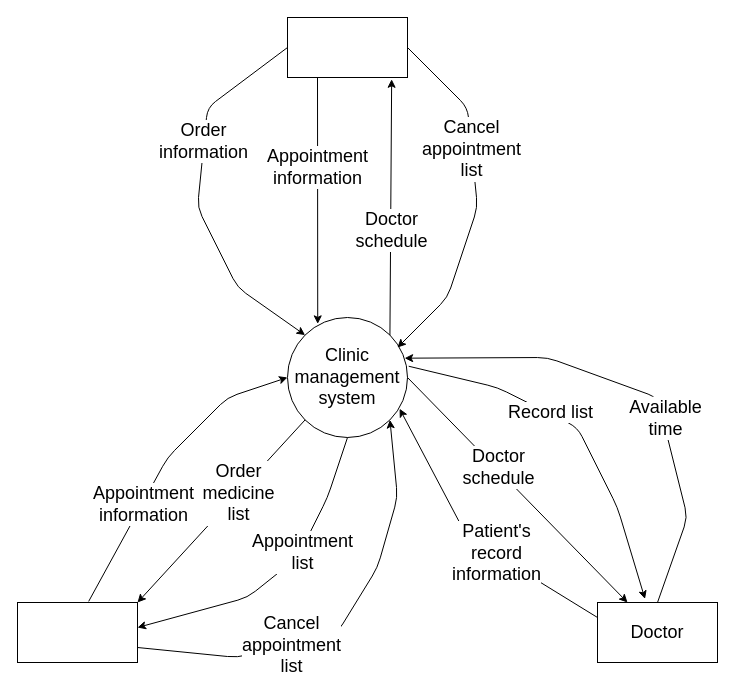
Image size: 735x696. Some labels were removed from this diagram. Here are the shapes that lost their labels. From the top down, the centre of each, then its label:
the point at 347,47: Patient
the point at 77,632: Nurse
